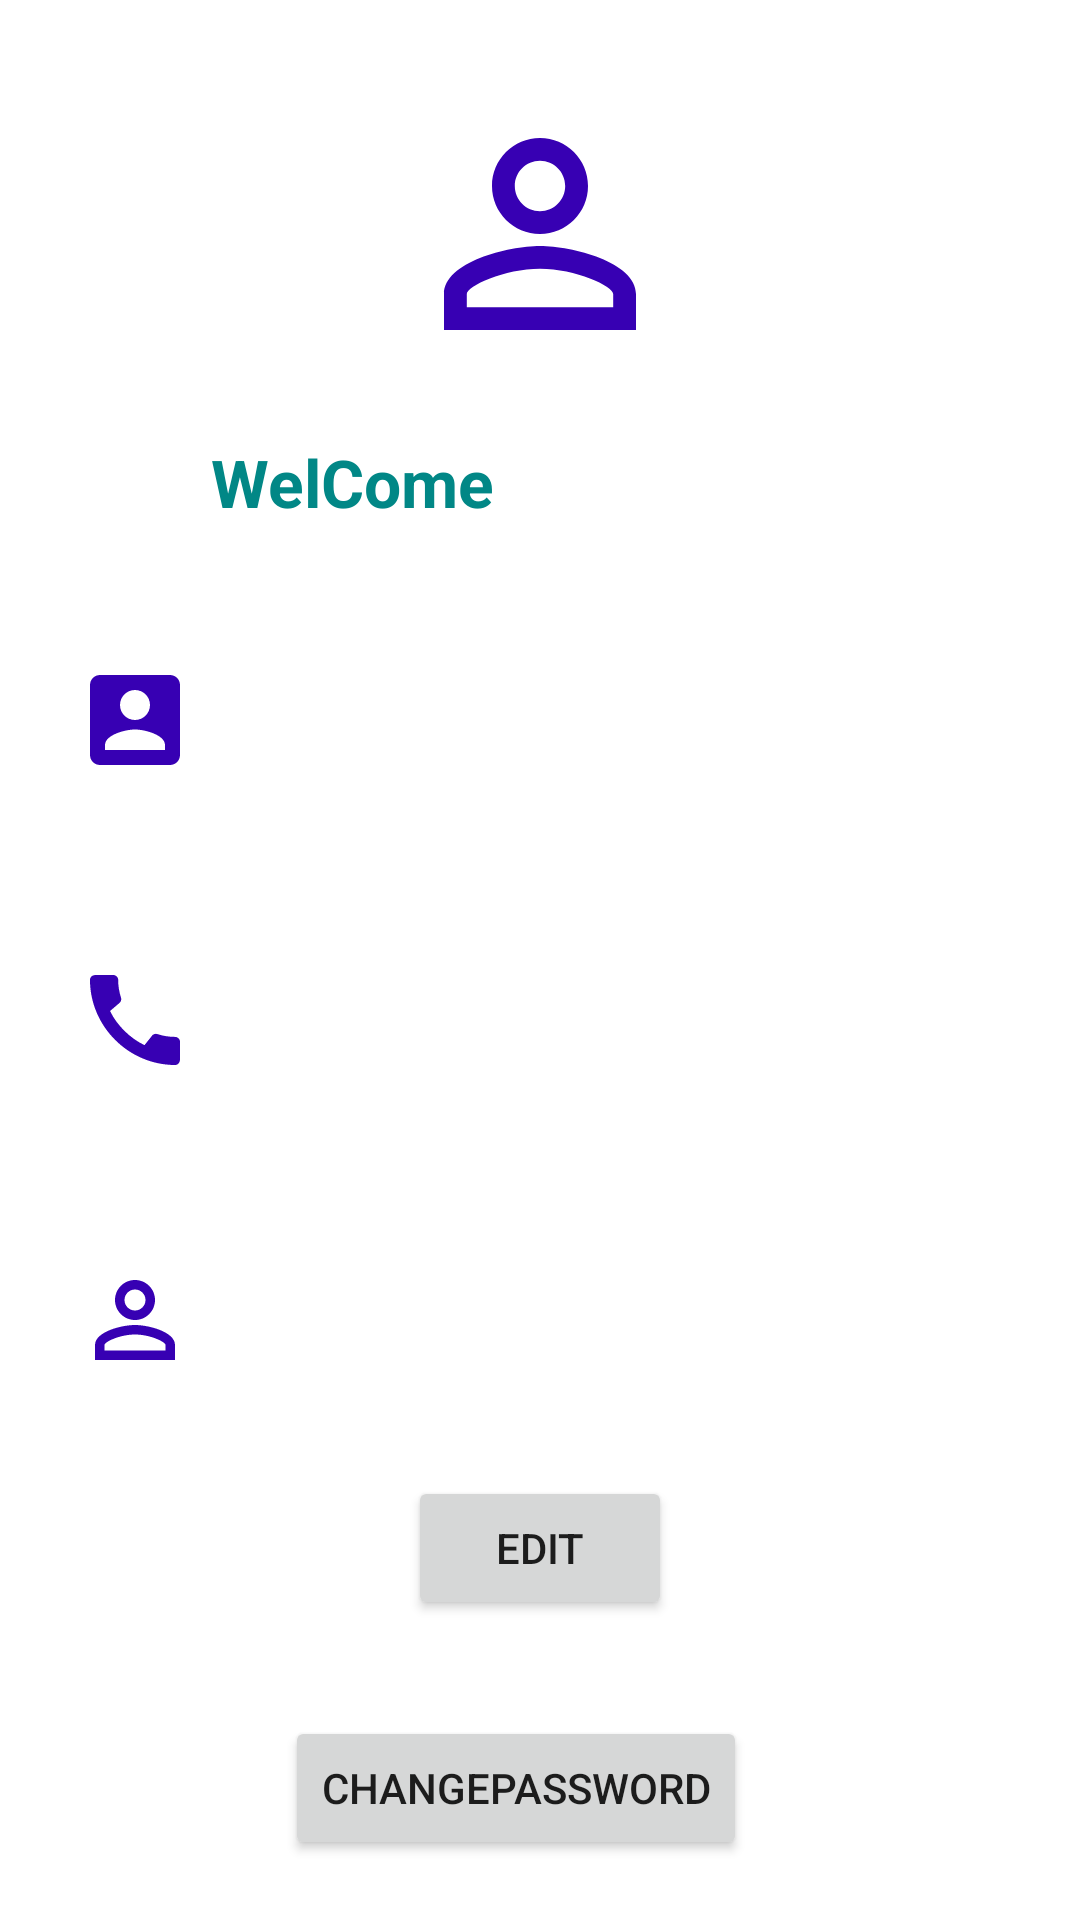

Where icons sit on this 1080*1920 app screen, as (x1,y1,x2,y2):
account: (90,675,180,765)
call: (90,975,180,1065)
person: (444,138,636,330), (95,1280,175,1360)
